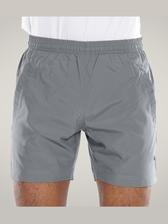clothoes: (7, 32, 165, 190)
